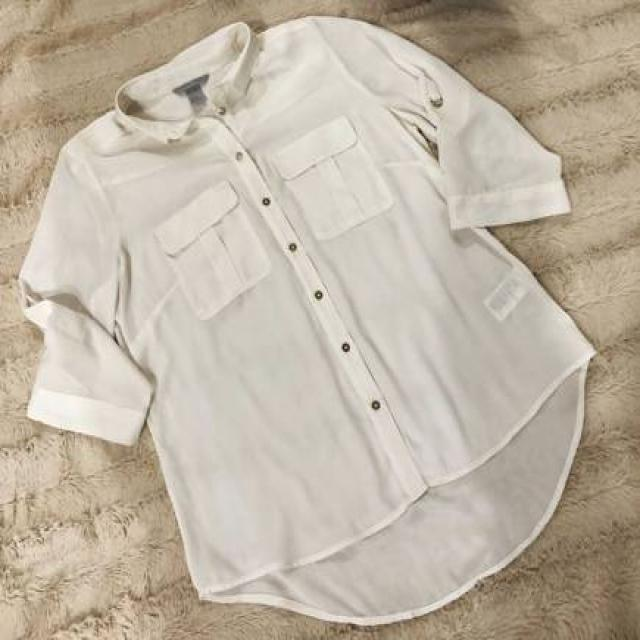Clothes -Biodegradable-: (16, 17, 591, 614)
